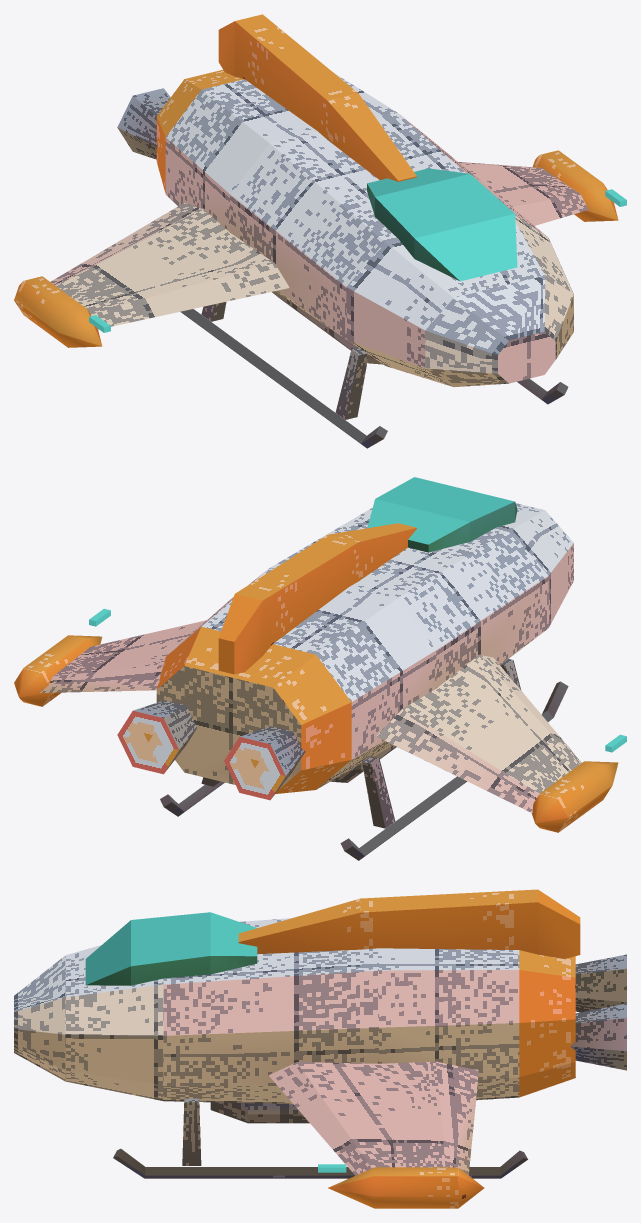
Rendered from ship.shuttle__cargo.glb.
3 views of the same model, one above another, from view 1: azimuth 30°, elevation 25°; view 2: azimuth 150°, elevation 25°; view 3: azimuth 270°, elevation 25° (orthographic). The views are drawn at different scales.
Parts seen in each view (by area): view 1: kit_body, kit_wings, kit_spine, kit_canopy, kit_tip_pods, kit_skids, kit_thrusters, kit_struts, kit_cargo_pod; view 2: kit_body, kit_wings, kit_spine, kit_thrusters, kit_canopy, kit_tip_pods, kit_skids, kit_struts; view 3: kit_body, kit_wings, kit_spine, kit_canopy, kit_thrusters, kit_tip_pods, kit_skids, kit_cargo_pod, kit_struts.
Part boxes in pixels (x1=…): kit_body: x1=156, y1=69, x2=573, y2=387; kit_wings: x1=50, y1=162, x2=588, y2=329; kit_spine: x1=218, y1=14, x2=416, y2=181; kit_canopy: x1=367, y1=168, x2=517, y2=281; kit_tip_pods: x1=14, y1=150, x2=618, y2=347; kit_skids: x1=180, y1=309, x2=568, y2=448; kit_thrusters: x1=117, y1=88, x2=170, y2=159; kit_struts: x1=201, y1=302, x2=368, y2=419; kit_cargo_pod: x1=272, y1=291, x2=382, y2=364; kit_body: x1=156, y1=503, x2=573, y2=793; kit_wings: x1=40, y1=620, x2=581, y2=812; kit_spine: x1=218, y1=523, x2=416, y2=674; kit_thrusters: x1=117, y1=700, x2=305, y2=800; kit_canopy: x1=367, y1=477, x2=517, y2=552; kit_tip_pods: x1=14, y1=635, x2=618, y2=832; kit_skids: x1=160, y1=681, x2=568, y2=860; kit_struts: x1=201, y1=659, x2=520, y2=828; kit_body: x1=14, y1=918, x2=575, y2=1104; kit_wings: x1=269, y1=1061, x2=478, y2=1175; kit_spine: x1=238, y1=889, x2=580, y2=958; kit_canopy: x1=85, y1=912, x2=257, y2=985; kit_thrusters: x1=570, y1=954, x2=626, y2=1070; kit_tip_pods: x1=328, y1=1167, x2=484, y2=1208; kit_skids: x1=113, y1=1148, x2=527, y2=1178; kit_cargo_pod: x1=210, y1=1102, x2=309, y2=1123; kit_struts: x1=182, y1=1098, x2=201, y2=1165.
Size of the model in its own units: 6.44 by 2.84 by 6.55.
8 materials, 7 textured.
